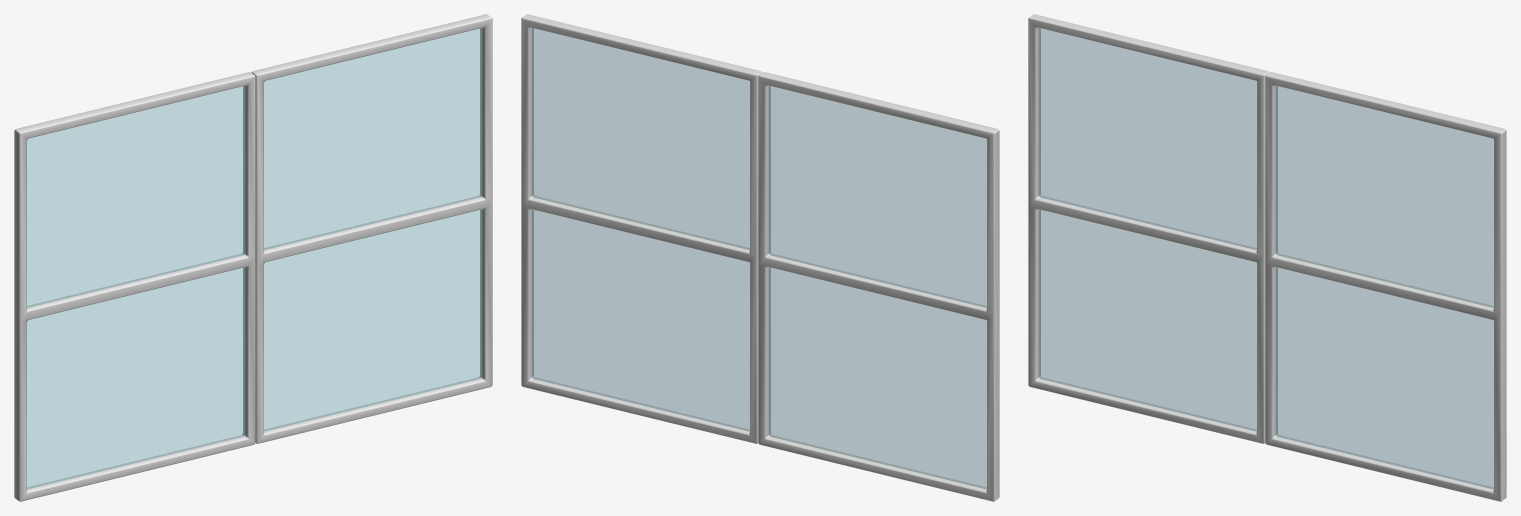
The model's file is Doors.fbx.
The picture shows the model from 3 angles, left to right: view 1: azimuth 30°, elevation 25°; view 2: azimuth 150°, elevation 25°; view 3: azimuth 330°, elevation 25°; orthographic projection.
Visible parts, largest first — view 1: Cube.014, Cube.013; view 2: Cube.014, Cube.013; view 3: Cube.013, Cube.014.
Part boxes in pixels (x1=…): Cube.014: x1=14, y1=72, x2=255, y2=501; Cube.013: x1=251, y1=14, x2=492, y2=443; Cube.014: x1=758, y1=72, x2=999, y2=501; Cube.013: x1=521, y1=14, x2=762, y2=443; Cube.013: x1=1265, y1=72, x2=1506, y2=501; Cube.014: x1=1028, y1=14, x2=1269, y2=443.
Size of the model in its own units: 366 by 273 by 8.
